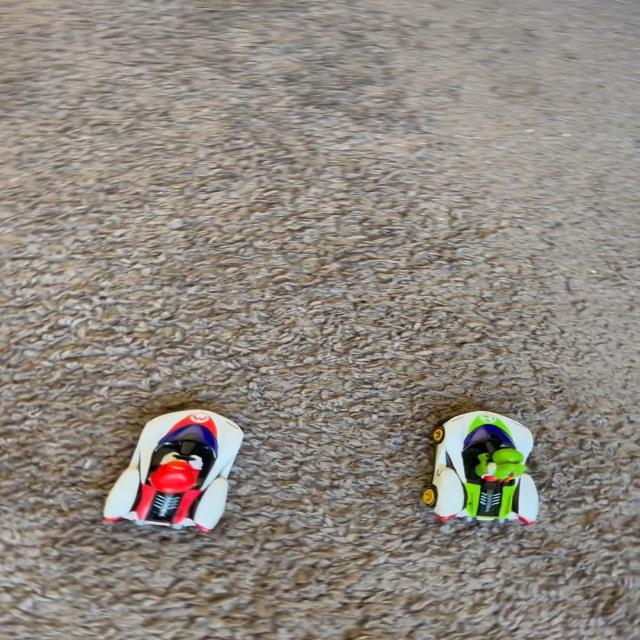mario: (78, 398, 260, 552)
yoshi: (407, 398, 562, 548)
